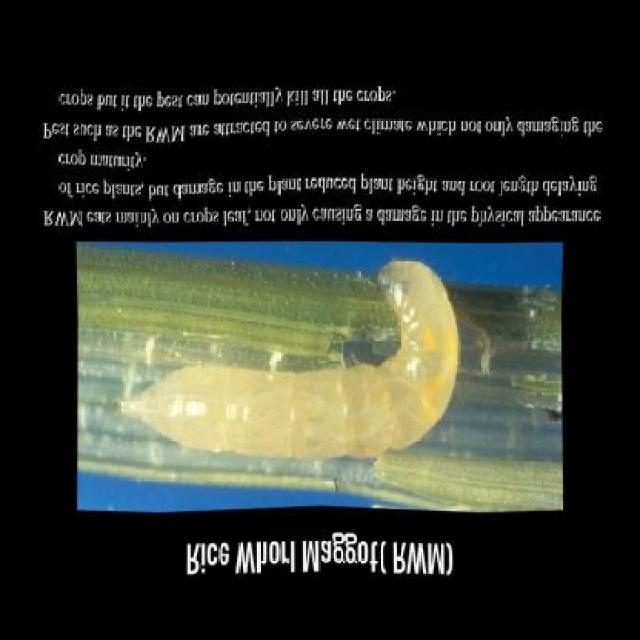whorl-maggot: (109, 254, 463, 469)
